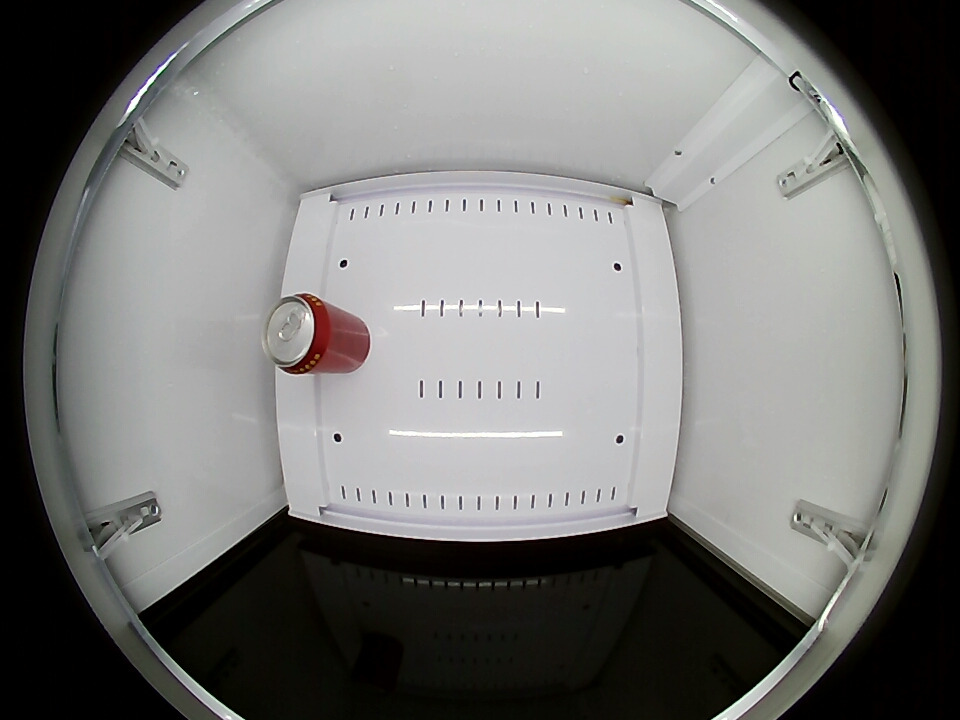wanglaoji-c: (263, 293, 333, 374)
